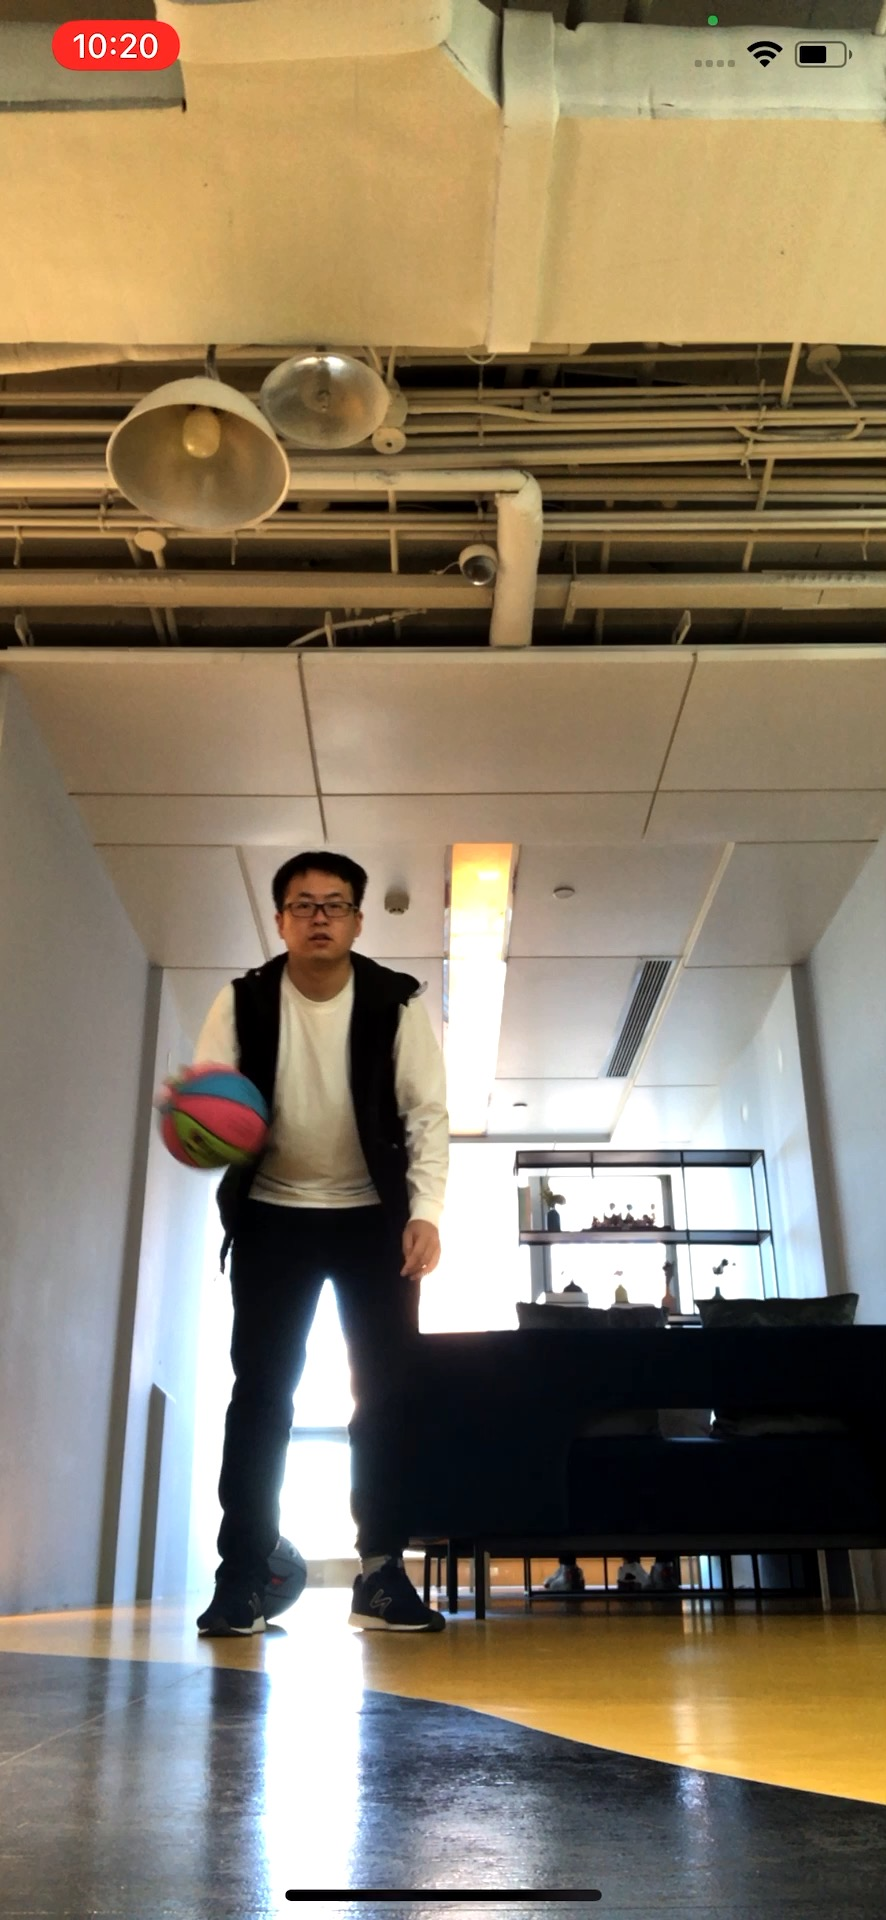ball: (155, 1063, 267, 1168)
